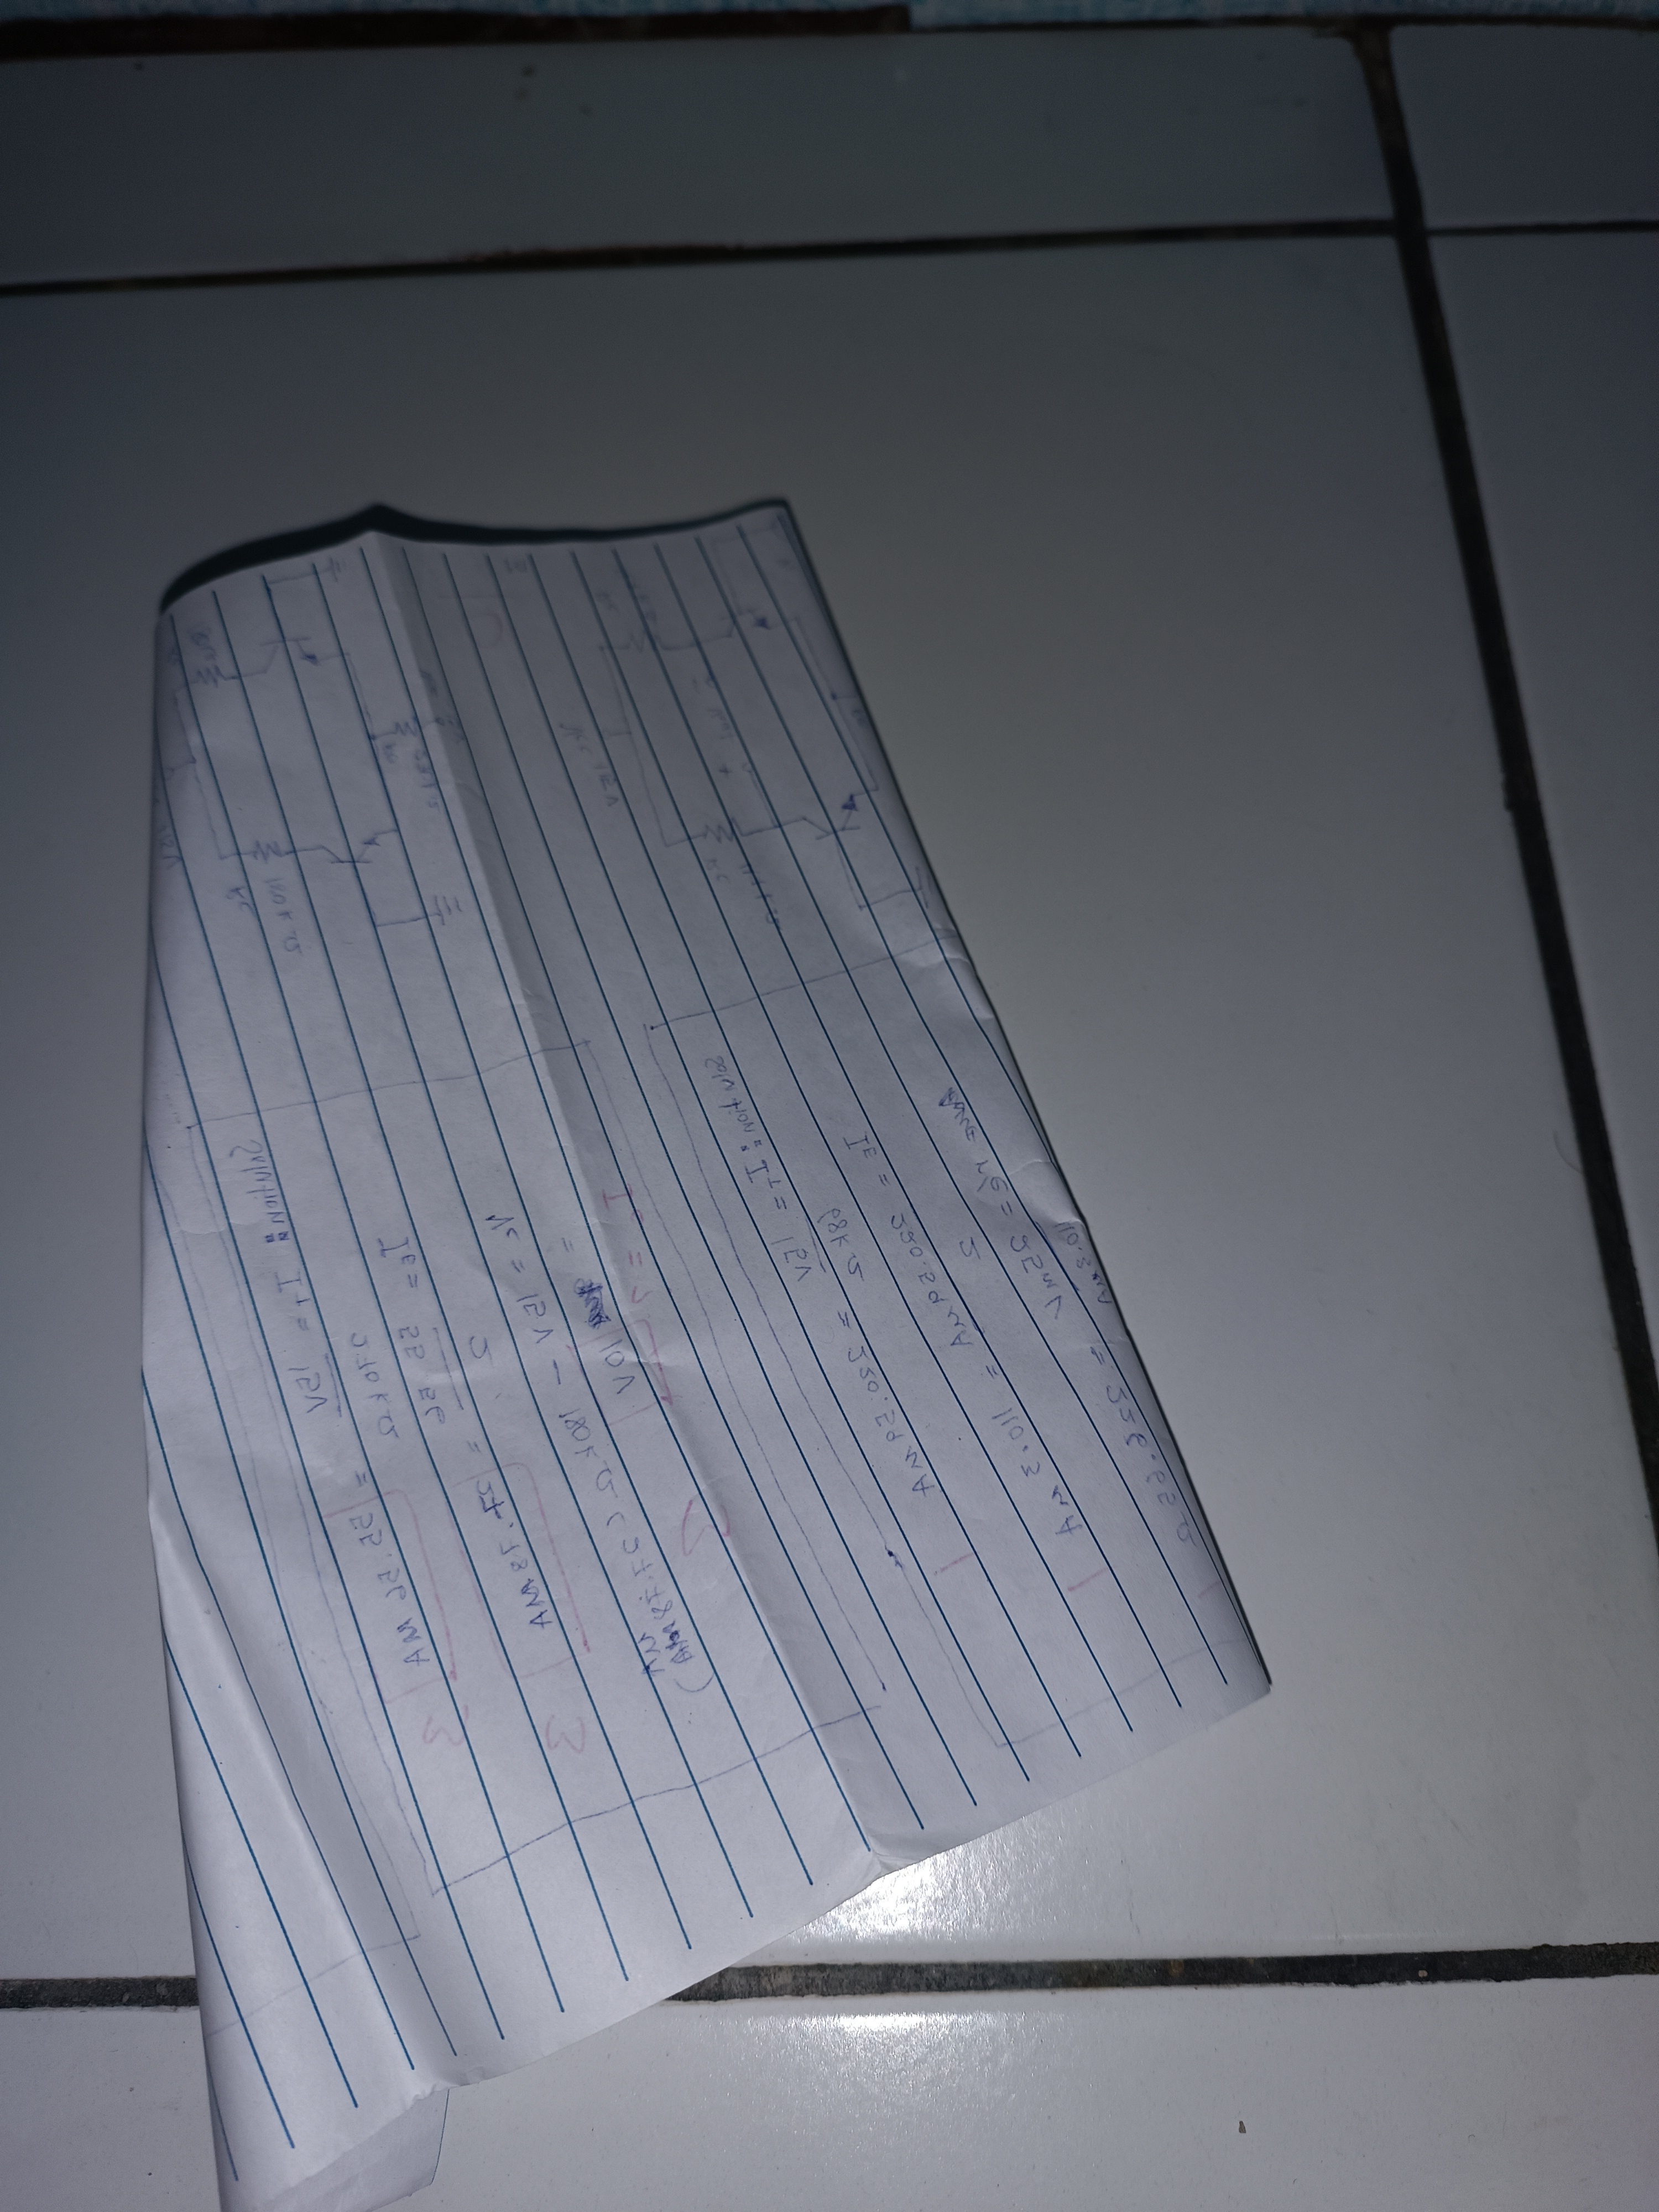Paper: (106, 465, 1209, 2087)
